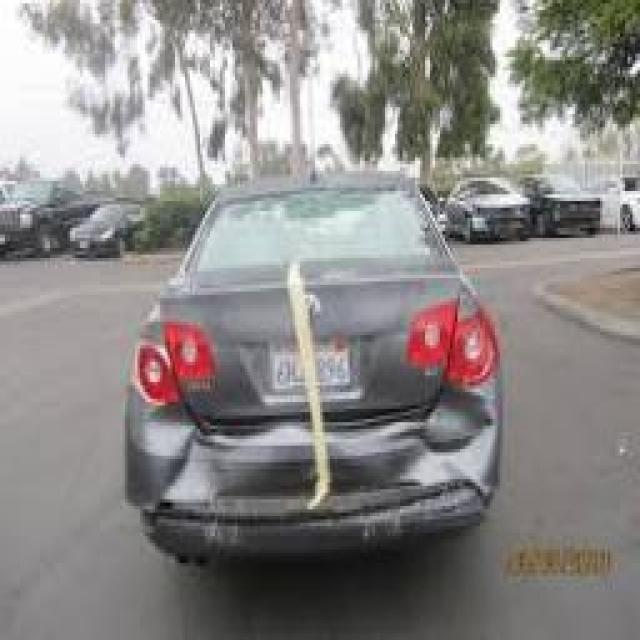replaceable: (123, 396, 524, 551)
